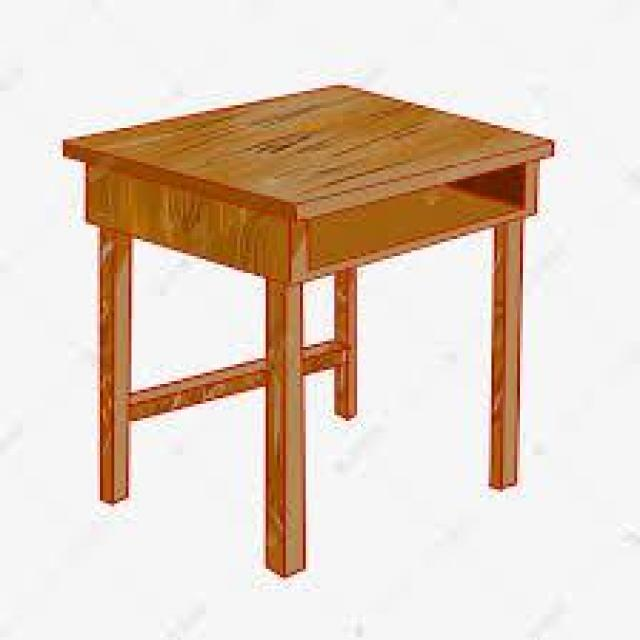table: (34, 53, 583, 613)
